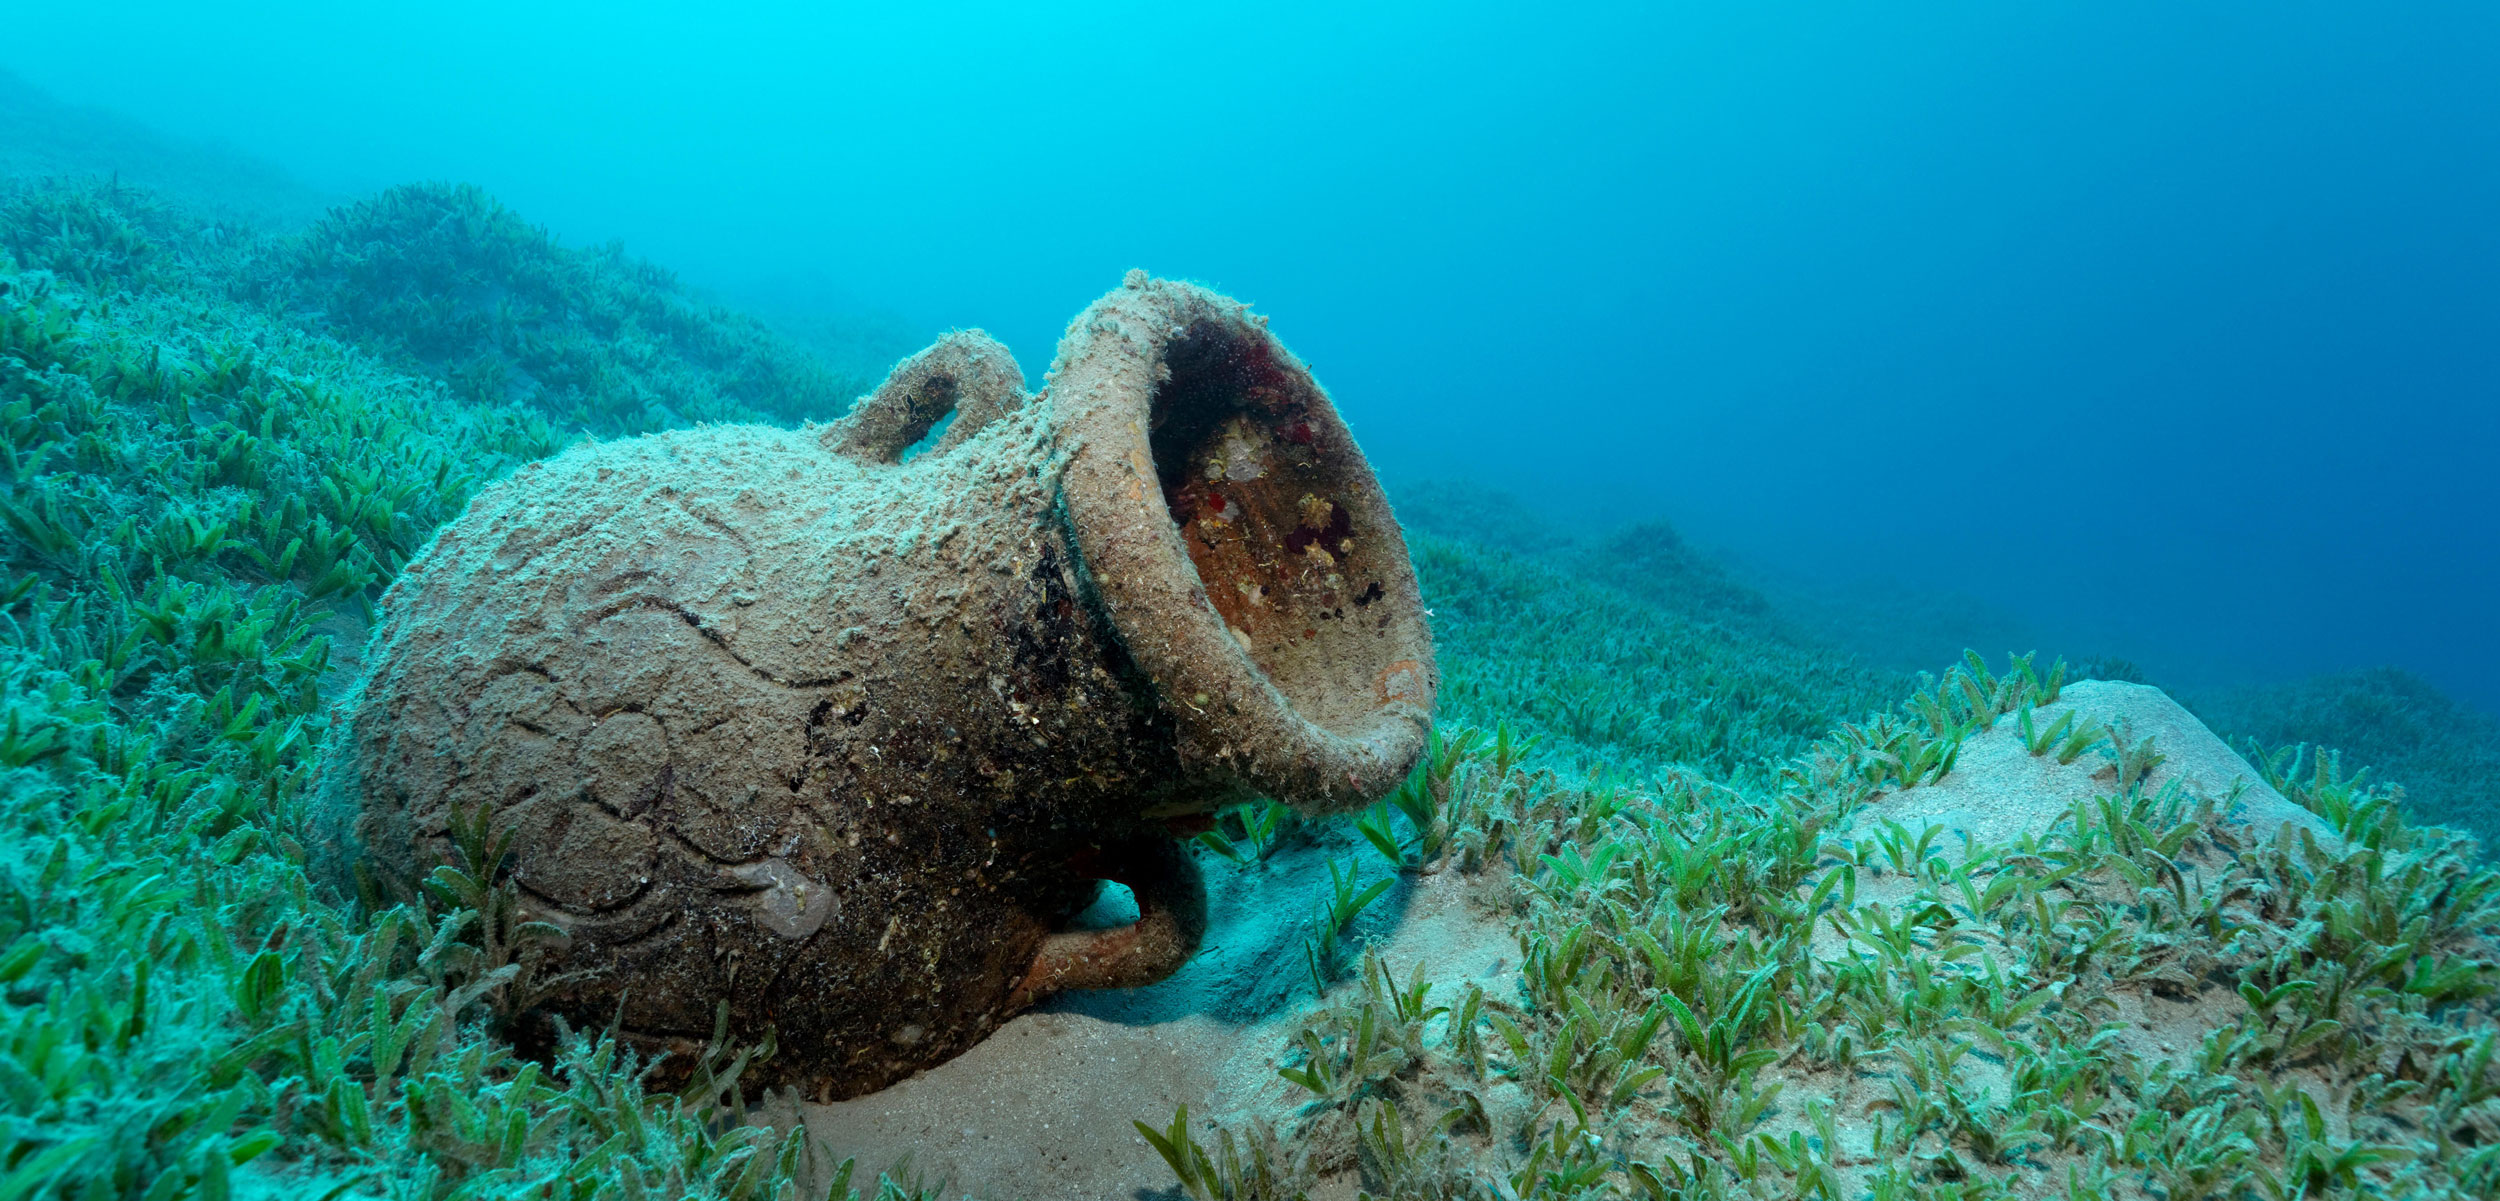amphora: (284, 262, 1468, 1108)
